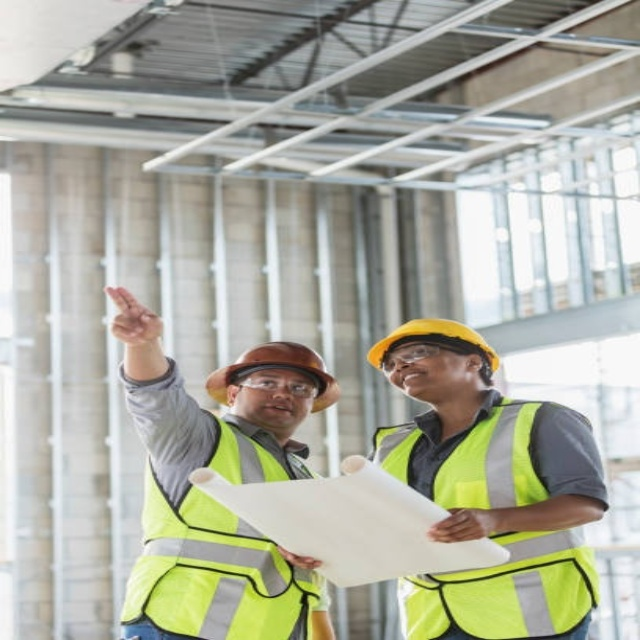Gafas: (381, 344, 465, 374), (236, 377, 320, 397)
Sin_guantes: (104, 285, 163, 344), (426, 506, 488, 543), (274, 544, 321, 571)
Sin_mascara: (391, 369, 439, 395), (253, 397, 296, 419)
